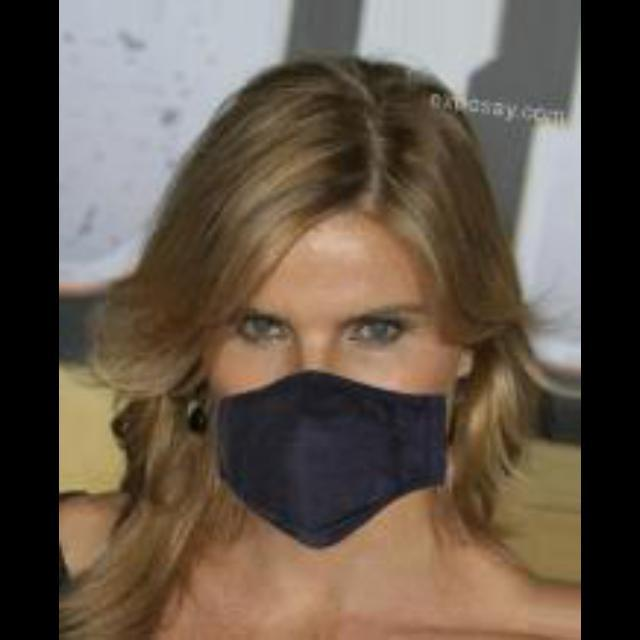suspicion: (193, 128, 501, 522)
